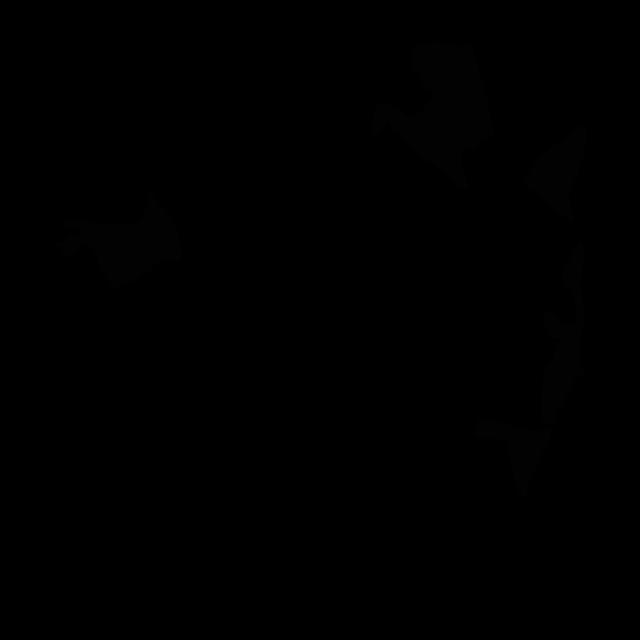cardboard: (372, 41, 494, 188), (55, 192, 181, 292), (541, 243, 585, 423), (521, 125, 588, 224), (474, 418, 552, 497)
